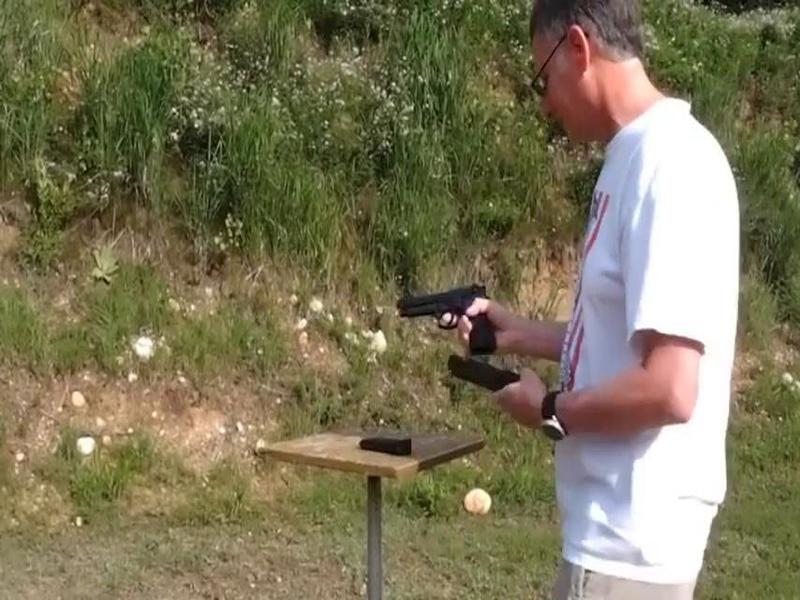Pistola: (393, 254, 504, 383)
